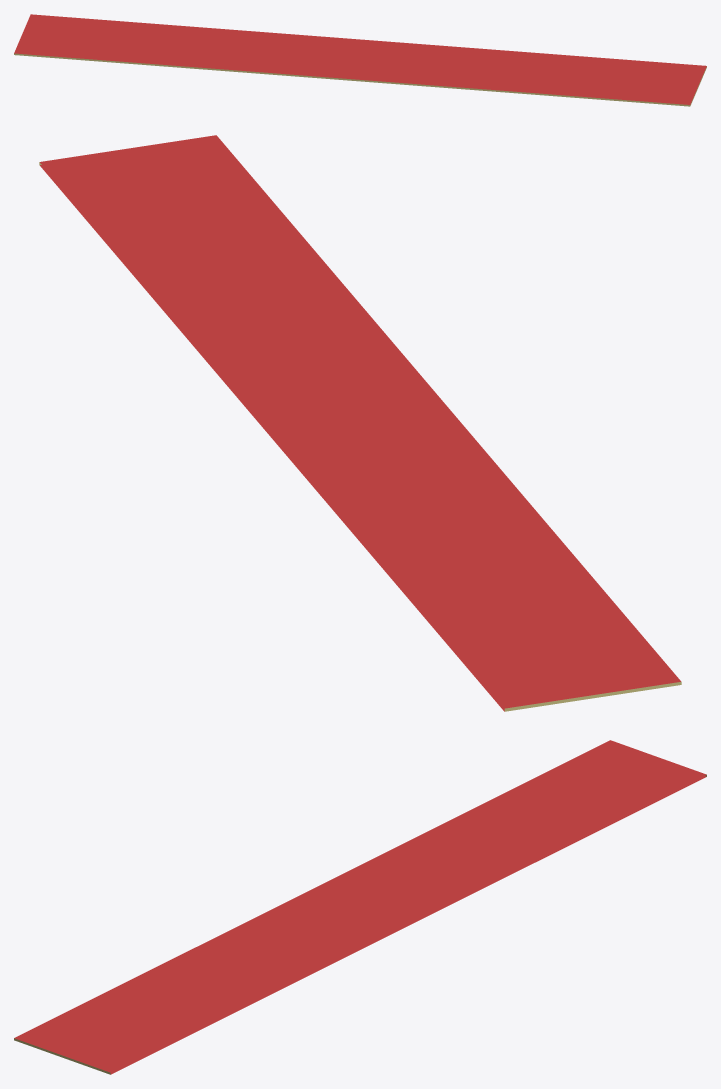
3 renders of one model, top to bottom at view 1: azimuth 30°, elevation 25°; view 2: azimuth 150°, elevation 25°; view 3: azimuth 270°, elevation 25°, orthographic. The views are drawn at different scales.
Size of the model in its own units: 33.14 by 29.19 by 0.1.
